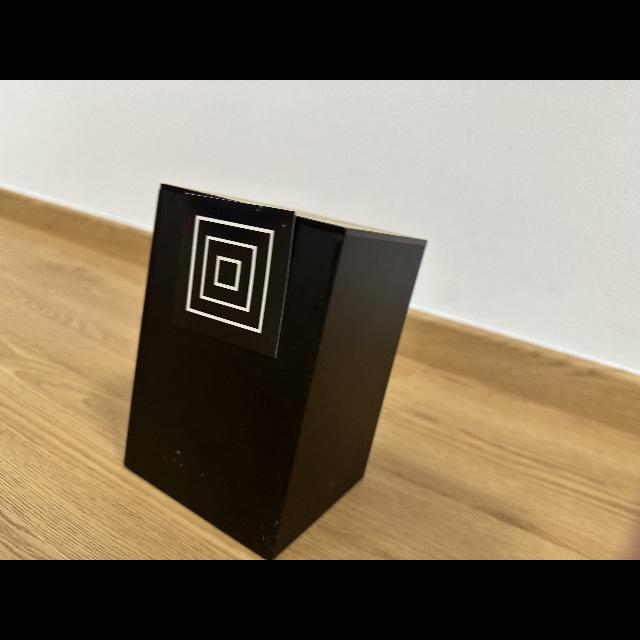BULLSEYE: (169, 192, 296, 359)
